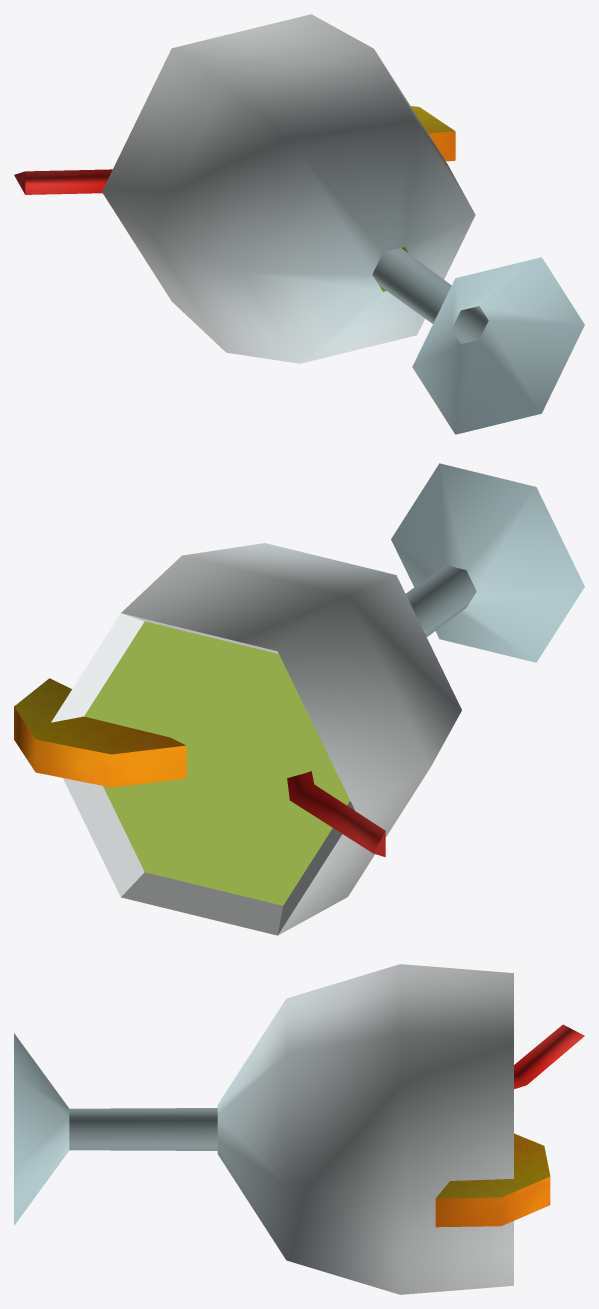
Rendered from Drink_01.fbx.
The picture shows the model from 3 angles, top to bottom: view 1: azimuth 30°, elevation 25°; view 2: azimuth 150°, elevation 25°; view 3: azimuth 270°, elevation 25°; orthographic projection. The views are drawn at different scales.
Parts seen in each view (by area): view 1: Drink_01; view 2: Drink_01; view 3: Drink_01.
Boxes of the visible parts, box(x1,y1,x2,y2) form: Drink_01: box(14, 14, 584, 434); Drink_01: box(14, 463, 584, 935); Drink_01: box(14, 964, 584, 1294).
Size of the model in its own units: 6.61 by 9.21 by 4.64.
